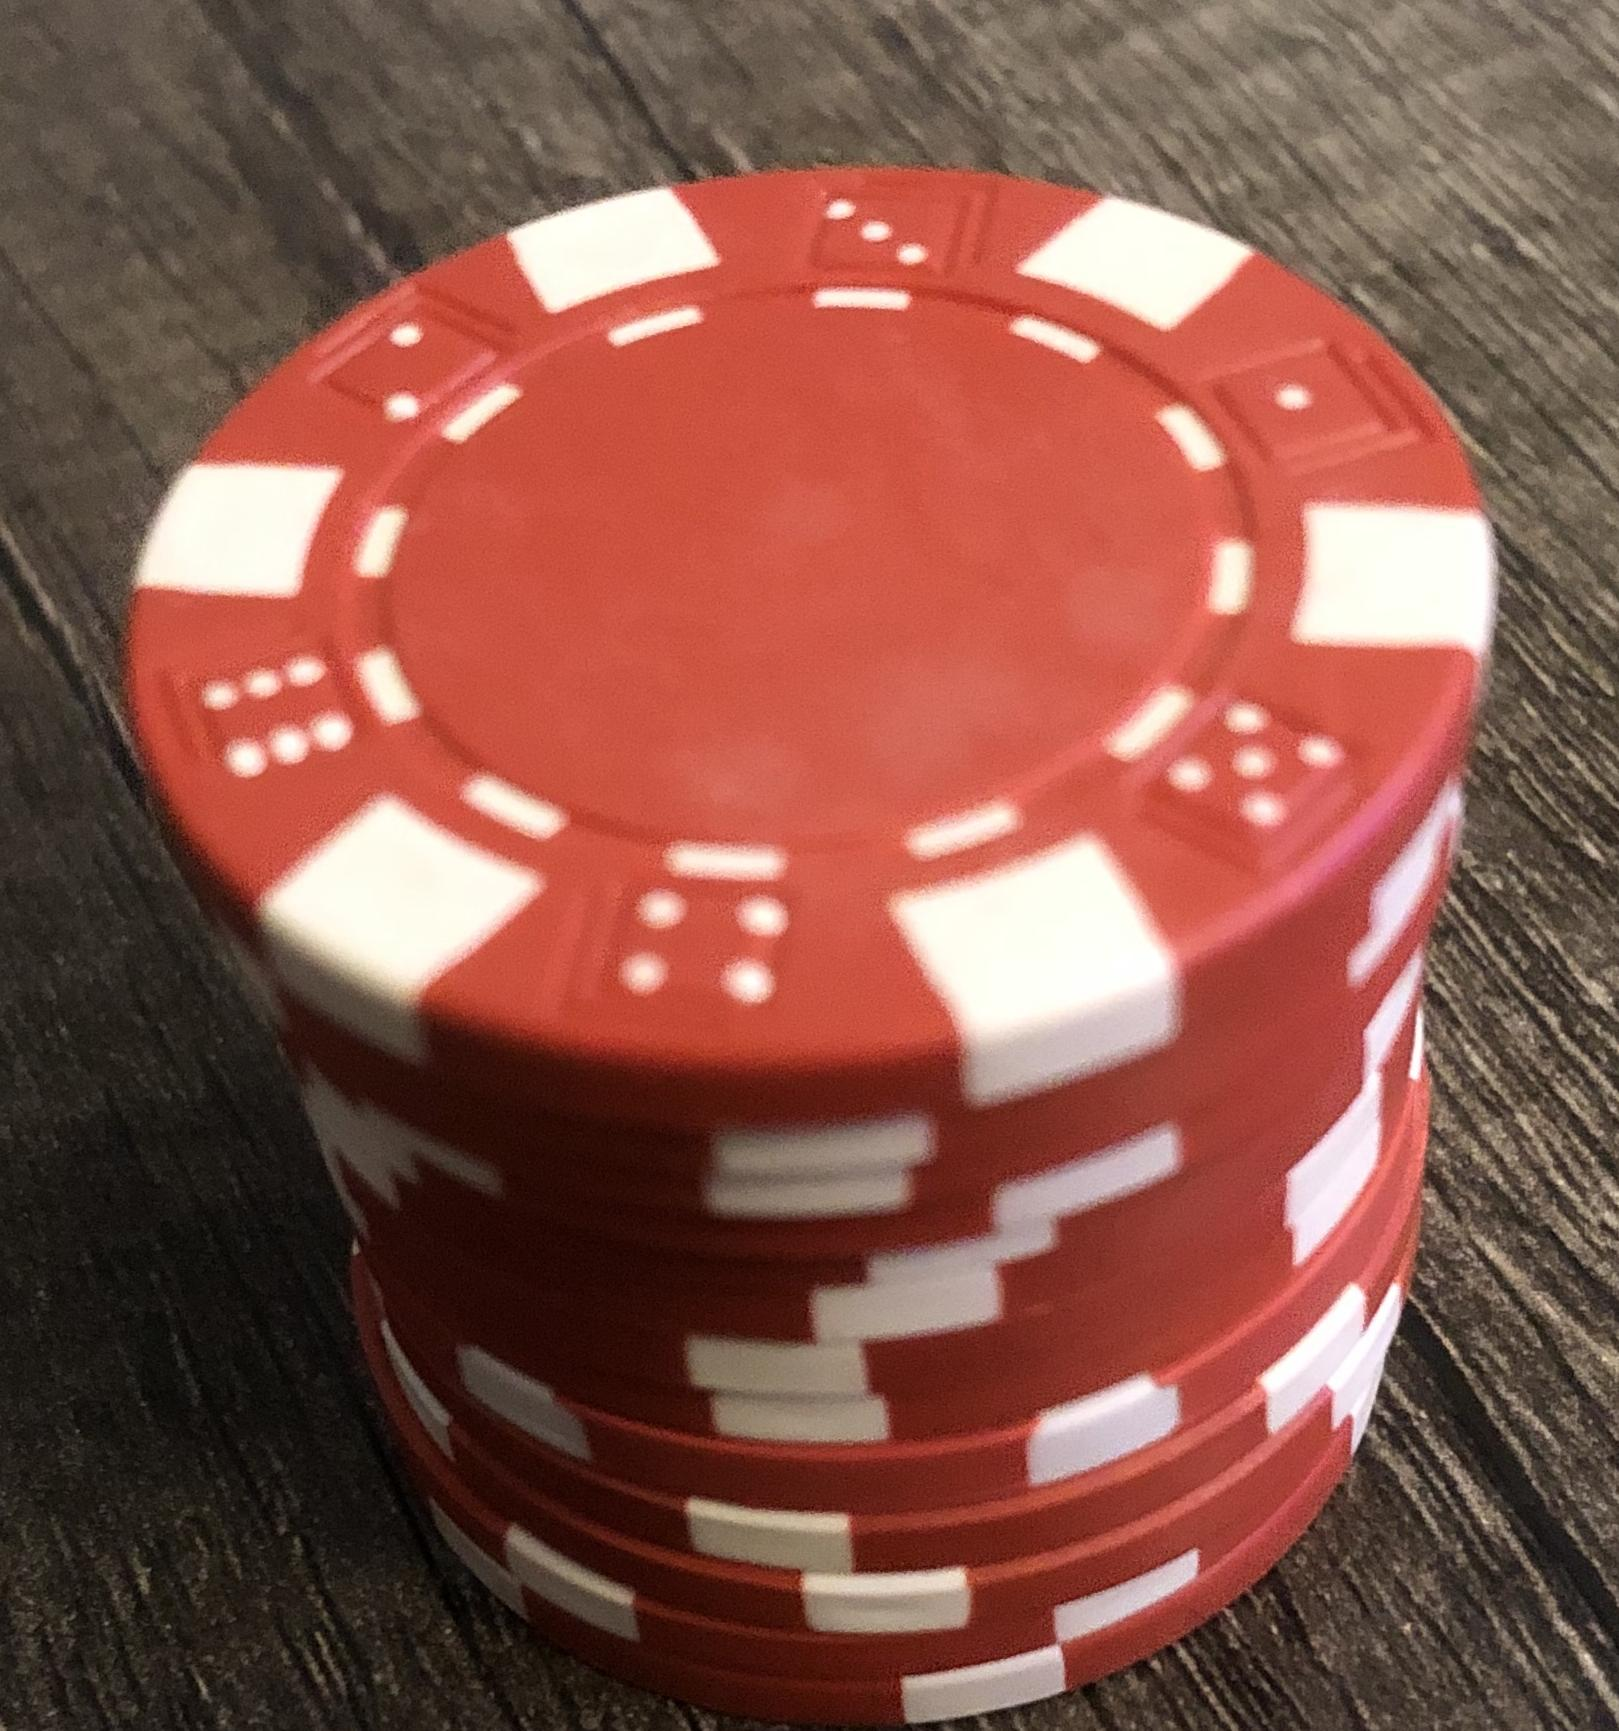Chip: (2, 2, 1619, 1731)
